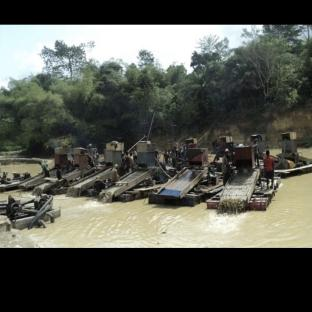ProcessingEquipment: (204, 146, 292, 217), (150, 135, 206, 220), (100, 143, 158, 211), (33, 143, 87, 207), (69, 140, 125, 197)
